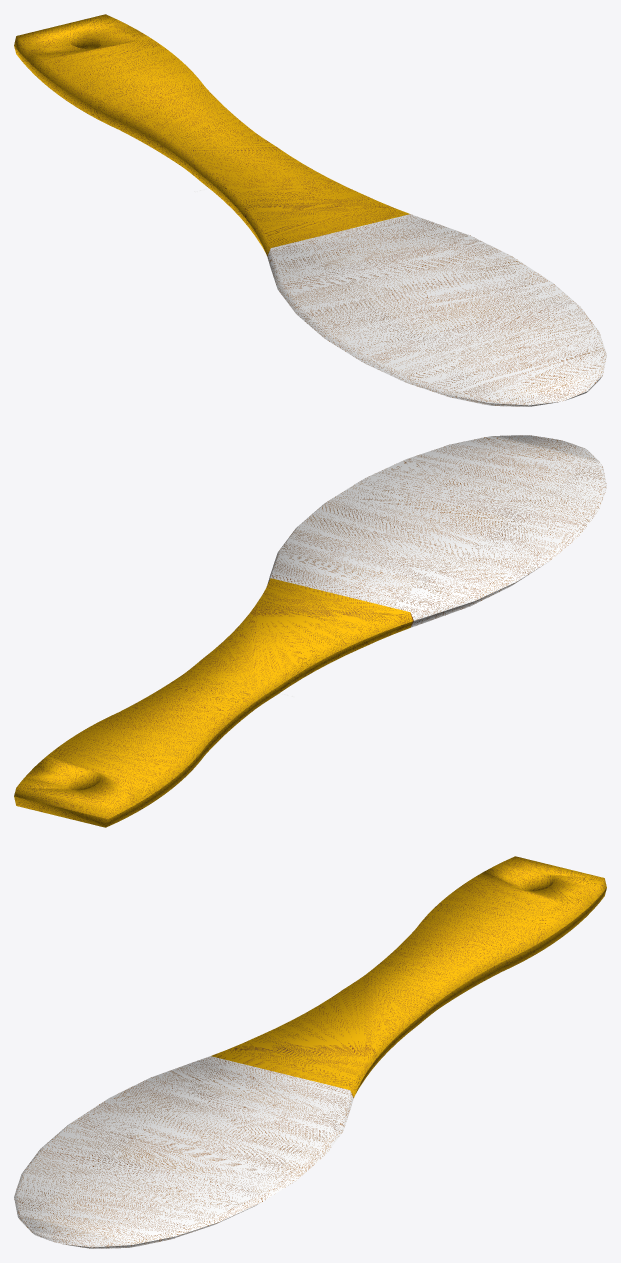
The model's file is spoon_01_origin_gt_1.dae.
3 renders of one model, top to bottom at view 1: azimuth 30°, elevation 25°; view 2: azimuth 150°, elevation 25°; view 3: azimuth 330°, elevation 25°, orthographic.
Parts seen in each view (by area): view 1: Wooden_Rice_Spoon (×2); view 2: Wooden_Rice_Spoon (×2); view 3: Wooden_Rice_Spoon (×2).
Part boxes in pixels (box(x1,y1,x2,y2)): Wooden_Rice_Spoon (×2): box(14, 14, 606, 406); Wooden_Rice_Spoon (×2): box(14, 435, 606, 827); Wooden_Rice_Spoon (×2): box(14, 856, 606, 1248).
Size of the model in its own units: 2.36 by 8.97 by 0.2267.
4 materials, 1 textured.
